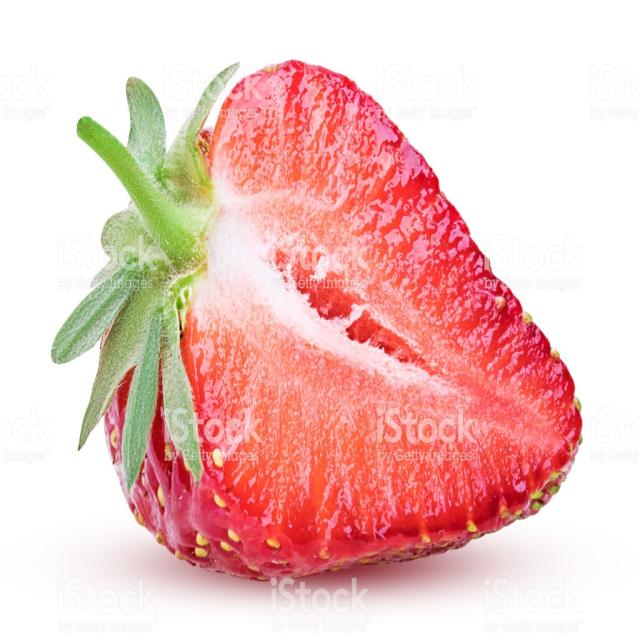strawberry: (47, 37, 596, 592)
